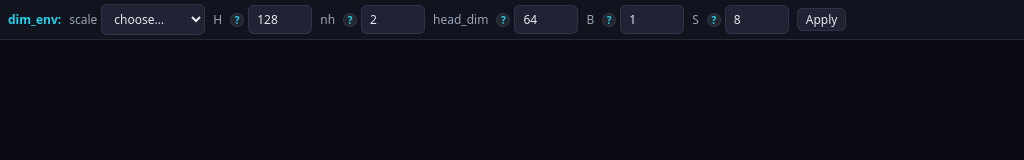
V7-F56b/F53 DimEnvEditor › re-evaluates the mismatch live as the user types (before Apply)
Replace the text in the number field with test id "dim-env-nh" with "3": point(393, 20) [361,5,425,34]
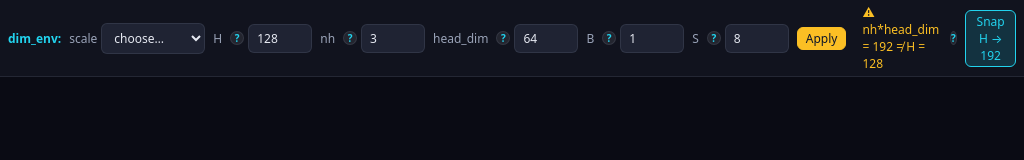
Expected: the element with test id "dim-env-inline-mismatch" shows "192", [862,21,939,72]
